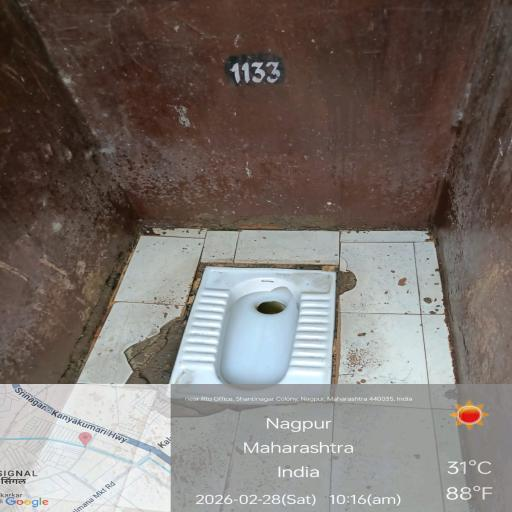clean_floor: (240, 23, 395, 203)
partial_dirty_floor: (0, 6, 229, 216), (412, 0, 512, 230), (73, 232, 199, 390), (336, 239, 474, 383), (0, 204, 87, 370), (193, 216, 363, 262)
partial_dirty_indian: (173, 272, 333, 384)
